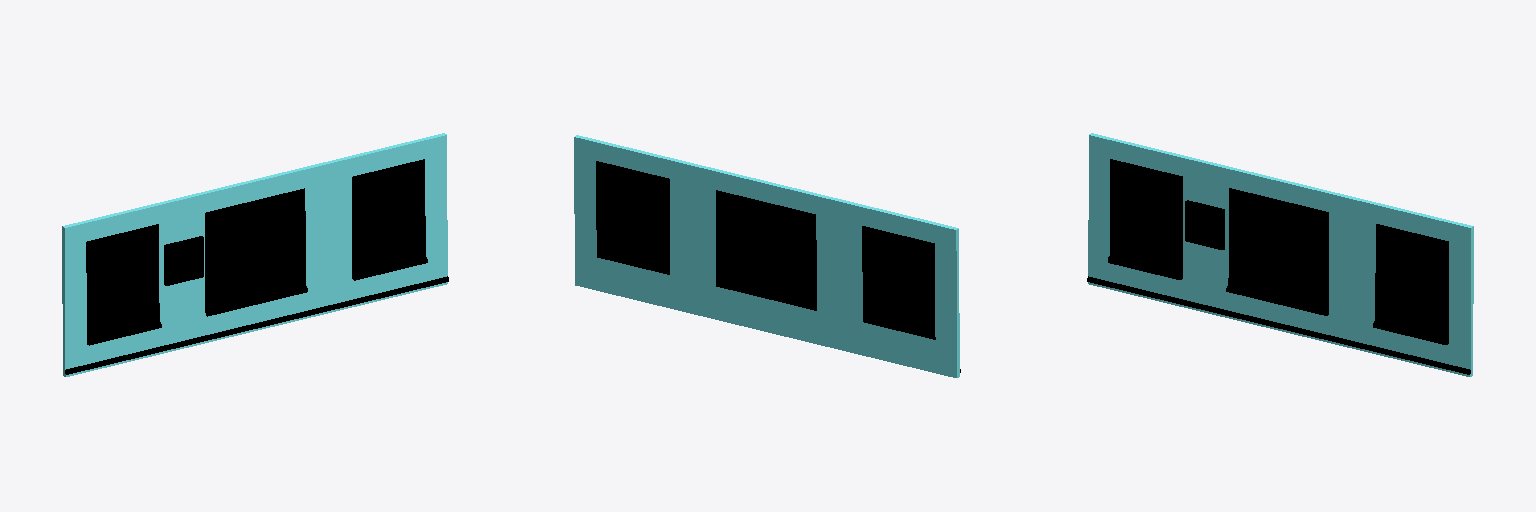
File: wall_vtwo_RA.obj
3 renders of one model, left to right at view 1: azimuth 30°, elevation 25°; view 2: azimuth 150°, elevation 25°; view 3: azimuth 330°, elevation 25°, orthographic.
Visible parts, largest first — view 1: wall_vtwo_RA:pCube11; view 2: wall_vtwo_RA:pCube11; view 3: wall_vtwo_RA:pCube11.
Boxes of the visible parts, box(x1,y1,x2,y2) form: wall_vtwo_RA:pCube11: box(62, 133, 448, 376); wall_vtwo_RA:pCube11: box(574, 135, 960, 377); wall_vtwo_RA:pCube11: box(1087, 133, 1473, 376).
Bounding box in the file's own units: 7.17 × 2.67 × 0.1755.